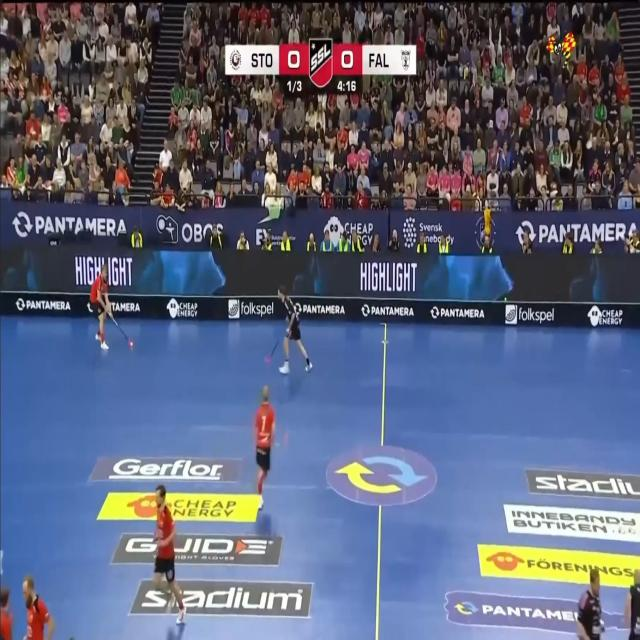Balls: (128, 339, 133, 349)
player: (153, 485, 186, 623), (278, 285, 312, 374), (254, 385, 275, 509), (23, 575, 54, 639), (90, 263, 111, 350), (0, 586, 12, 639)
